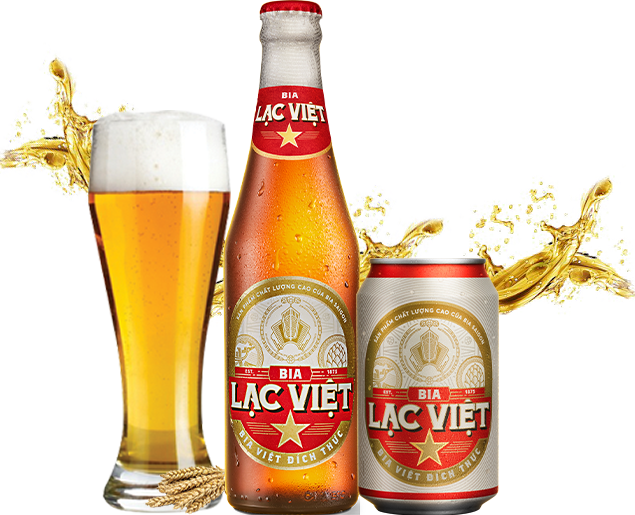bialacviet: (365, 398, 491, 437), (229, 377, 350, 417), (255, 101, 325, 126)
